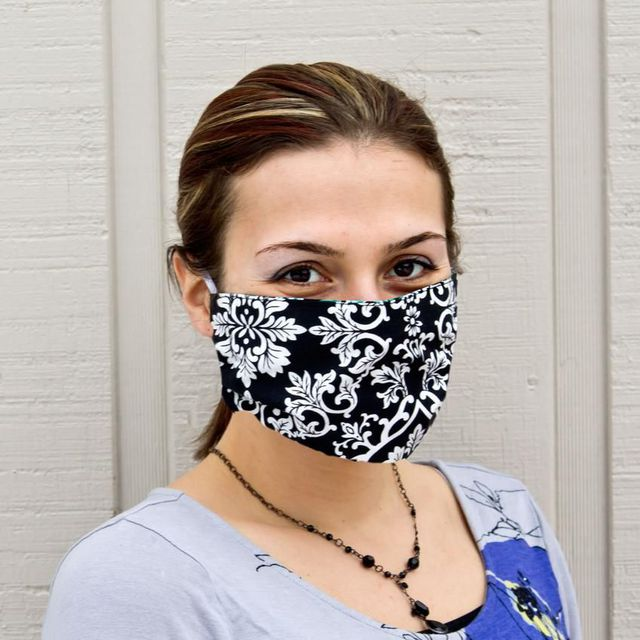mask: (226, 299, 461, 438)
